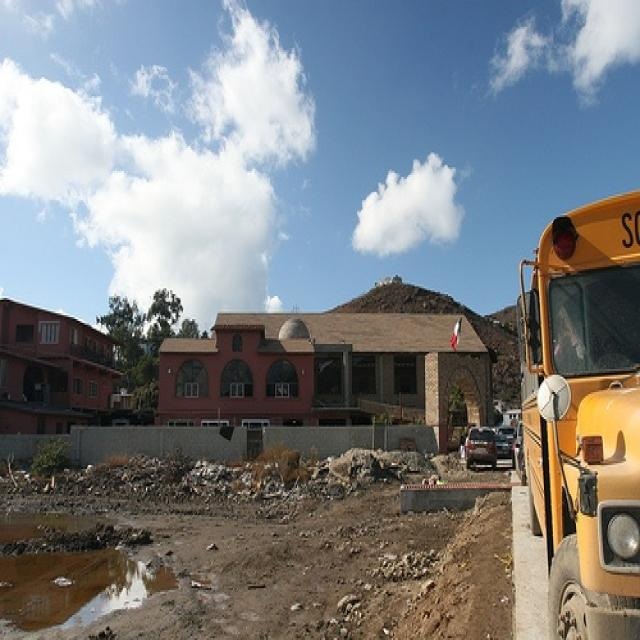bus: (520, 188, 638, 638)
car: (466, 423, 495, 475)
